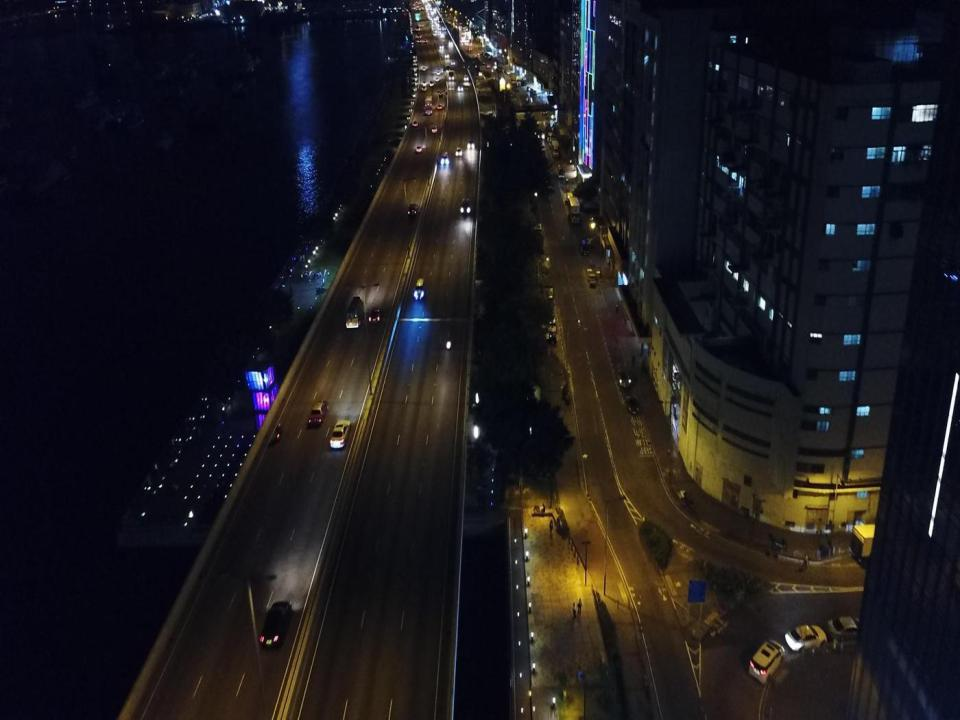bus: (346, 296, 364, 328), (425, 94, 433, 115), (448, 72, 454, 80), (416, 25, 420, 30)
car: (260, 600, 292, 645), (785, 624, 826, 652), (828, 615, 864, 639), (330, 419, 351, 448), (308, 400, 328, 426), (626, 395, 638, 414), (369, 307, 381, 323), (619, 372, 630, 388), (462, 198, 470, 214), (549, 330, 556, 344), (548, 137, 556, 148), (416, 145, 422, 153), (468, 141, 474, 148), (456, 147, 461, 155), (438, 91, 443, 98), (450, 60, 456, 65), (458, 85, 463, 91), (444, 53, 449, 58), (421, 86, 426, 91), (464, 75, 468, 81), (438, 104, 442, 110), (412, 122, 418, 126), (449, 39, 452, 45), (417, 34, 421, 38), (422, 81, 426, 85), (439, 45, 444, 48), (435, 78, 439, 81), (486, 65, 490, 68), (418, 39, 420, 43), (423, 68, 425, 71), (420, 25, 422, 27)
truck: (852, 522, 919, 566), (569, 196, 580, 225), (550, 141, 558, 156), (546, 127, 553, 142), (446, 64, 450, 72)
van: (748, 638, 785, 683), (414, 278, 425, 297), (547, 314, 556, 333), (580, 239, 588, 257), (407, 204, 417, 216), (557, 165, 564, 178), (441, 152, 448, 164), (566, 192, 573, 204), (431, 125, 437, 133), (429, 79, 434, 87), (437, 70, 440, 76), (424, 39, 427, 43)
